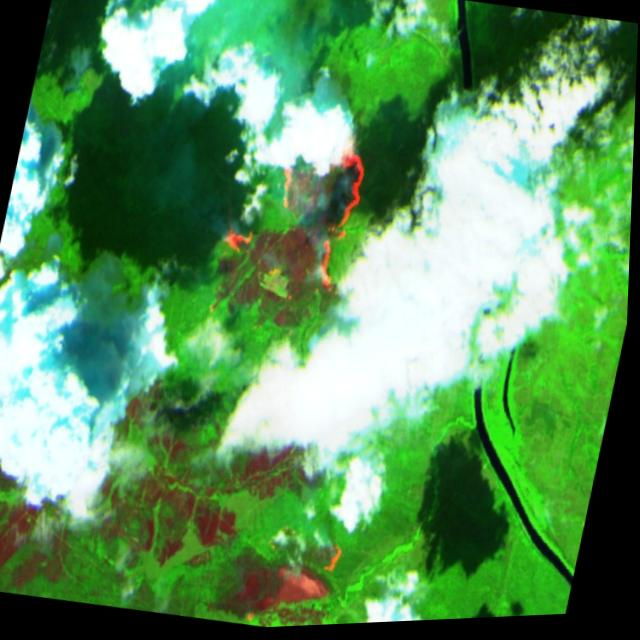fire: (211, 113, 387, 306), (244, 527, 357, 598)
